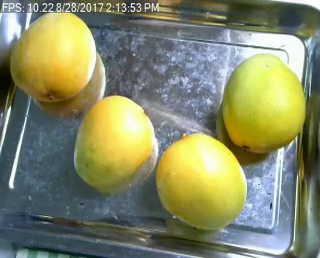Mango: (152, 133, 248, 231), (224, 50, 306, 155), (10, 11, 96, 102), (72, 95, 154, 187)
